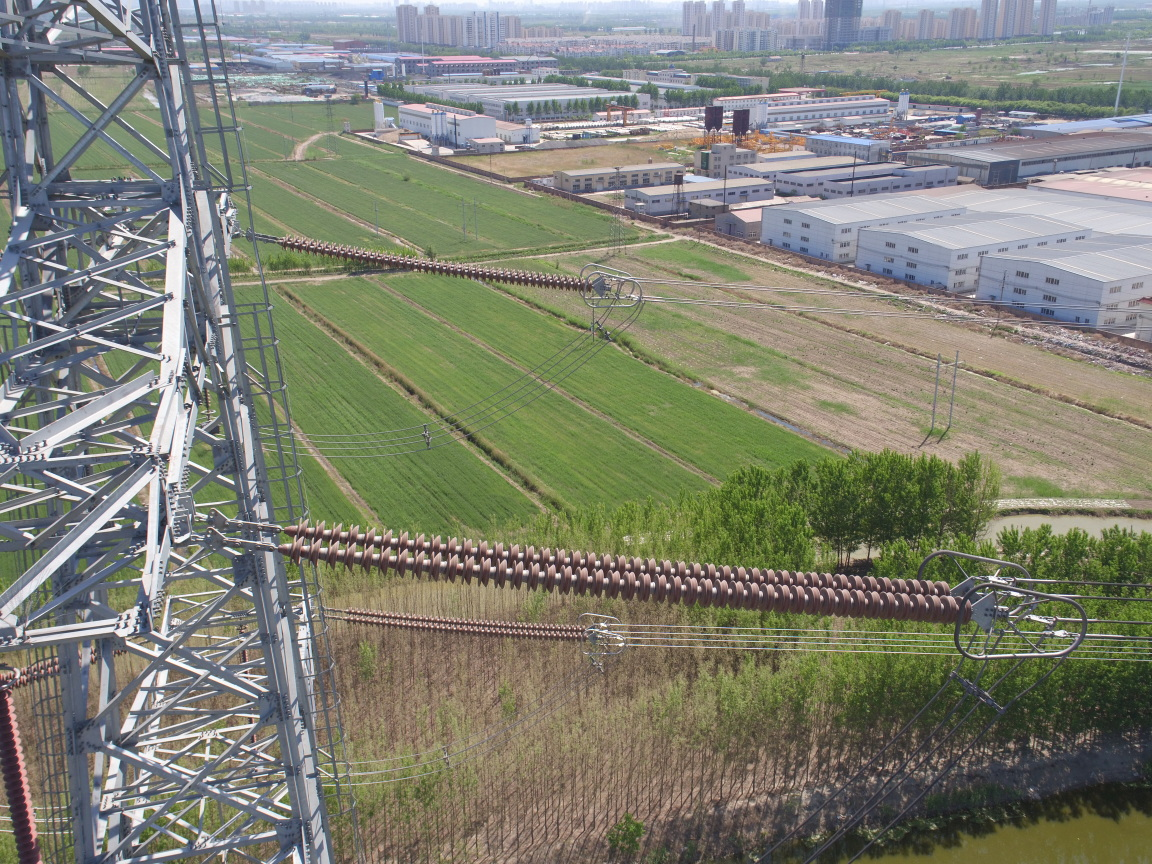insulator: (244, 512, 989, 628), (262, 231, 601, 293), (329, 607, 596, 644)
